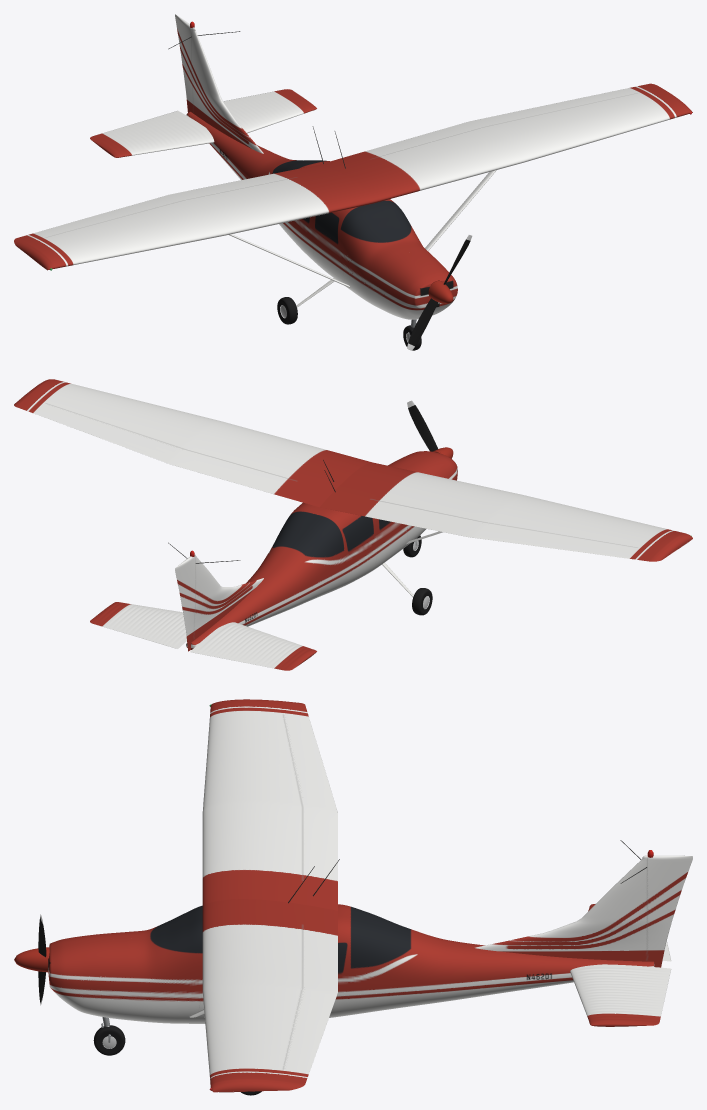
3 renders of one model, top to bottom at view 1: azimuth 30°, elevation 25°; view 2: azimuth 150°, elevation 25°; view 3: azimuth 270°, elevation 25°, orthographic. The views are drawn at different scales.
Visible parts, largest first — view 1: wing_L, wing_R, fuselage, fin, stab_R, stab_L, strut_L, prop_blade1; view 2: wing_L, wing_R, fuselage, fin, stab_R, stab_L, prop_blade0; view 3: fuselage, wing_R, wing_L, fin, stab_L, nose_wheel_tire, spinner.
Part boxes in pixels (bbox=[...]): wing_L: bbox=[320, 83, 692, 203]; wing_R: bbox=[14, 164, 374, 270]; fuselage: bbox=[186, 112, 457, 319]; fin: bbox=[175, 14, 263, 153]; stab_R: bbox=[90, 110, 214, 157]; stab_L: bbox=[223, 89, 316, 133]; strut_L: bbox=[425, 170, 496, 250]; prop_blade1: bbox=[408, 298, 438, 346]; wing_L: bbox=[14, 379, 371, 507]; wing_R: bbox=[320, 462, 692, 561]; fuselage: bbox=[186, 451, 457, 649]; fin: bbox=[175, 554, 263, 651]; stab_R: bbox=[190, 622, 316, 670]; stab_L: bbox=[90, 602, 186, 648]; prop_blade0: bbox=[408, 405, 437, 451]; fuselage: bbox=[48, 904, 654, 1023]; wing_R: bbox=[202, 699, 337, 910]; wing_L: bbox=[202, 899, 337, 1092]; fin: bbox=[475, 855, 692, 967]; stab_L: bbox=[570, 964, 671, 1026]; nose_wheel_tire: bbox=[93, 1025, 125, 1055]; spinner: bbox=[14, 947, 49, 972].
Bounding box in the file's own units: 11.02 × 2.72 × 8.17.
Materials: 14 (1 with a texture image).
